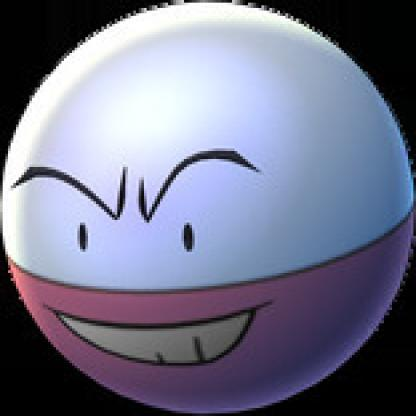Electrode: (1, 1, 415, 415)
